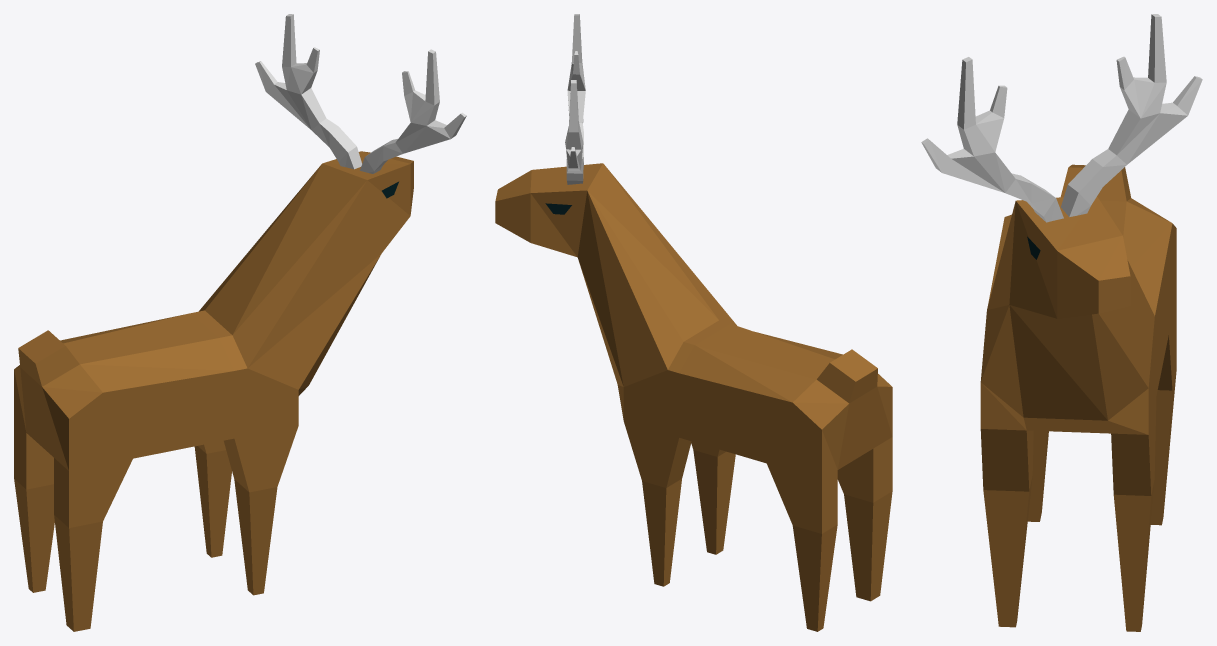
File: DEER.fbx
3 views of the same model, side by side, from view 1: azimuth 30°, elevation 25°; view 2: azimuth 150°, elevation 25°; view 3: azimuth 270°, elevation 25° (orthographic). The views are drawn at different scales.
Parts seen in each view (by area): view 1: DEER; view 2: DEER; view 3: DEER.
Boxes of the visible parts, x1,y1,x2,y2 form: DEER: (14,14,466,631); DEER: (495,14,892,631); DEER: (921,14,1202,631).
Size of the model in its own units: 163 by 205 by 78.59.
1 material, 1 textured.
